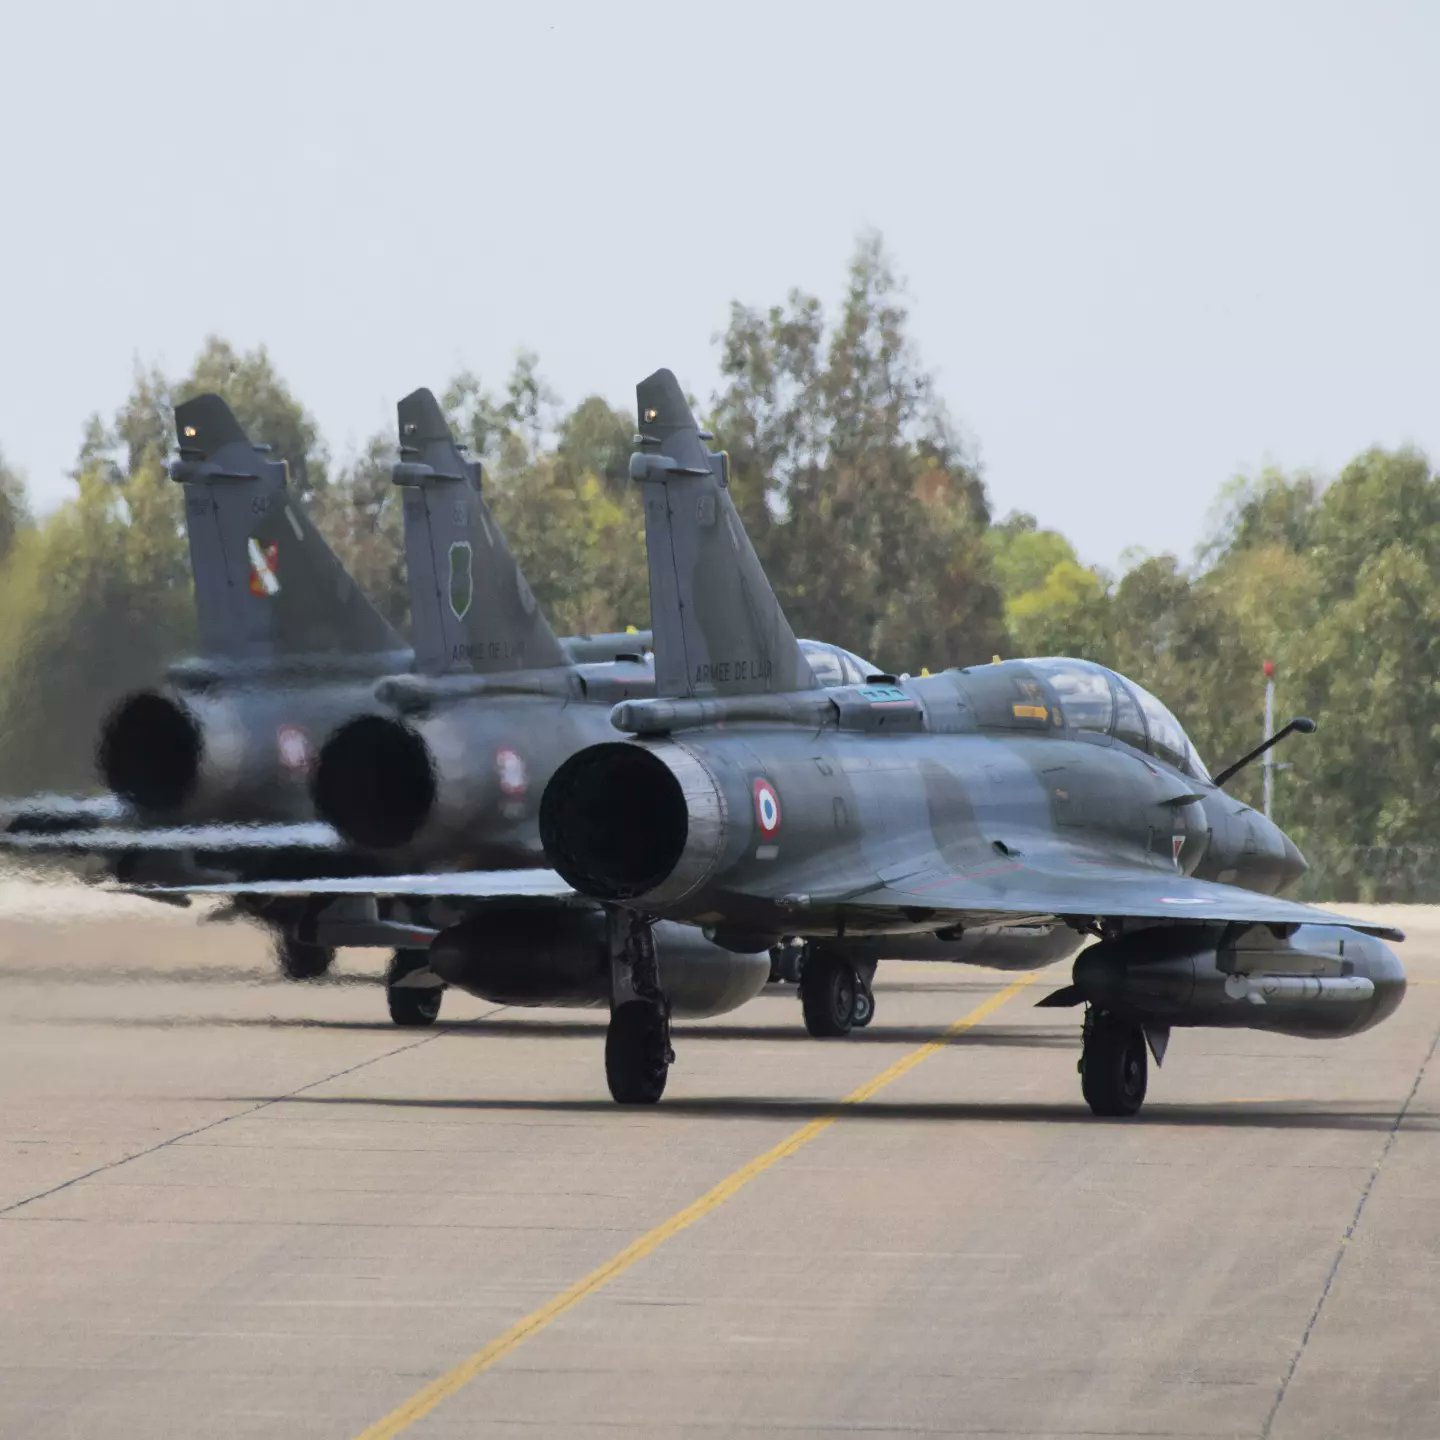Mirage2000: (96, 367, 1406, 1113), (1, 385, 1088, 1027), (1, 392, 804, 989)
